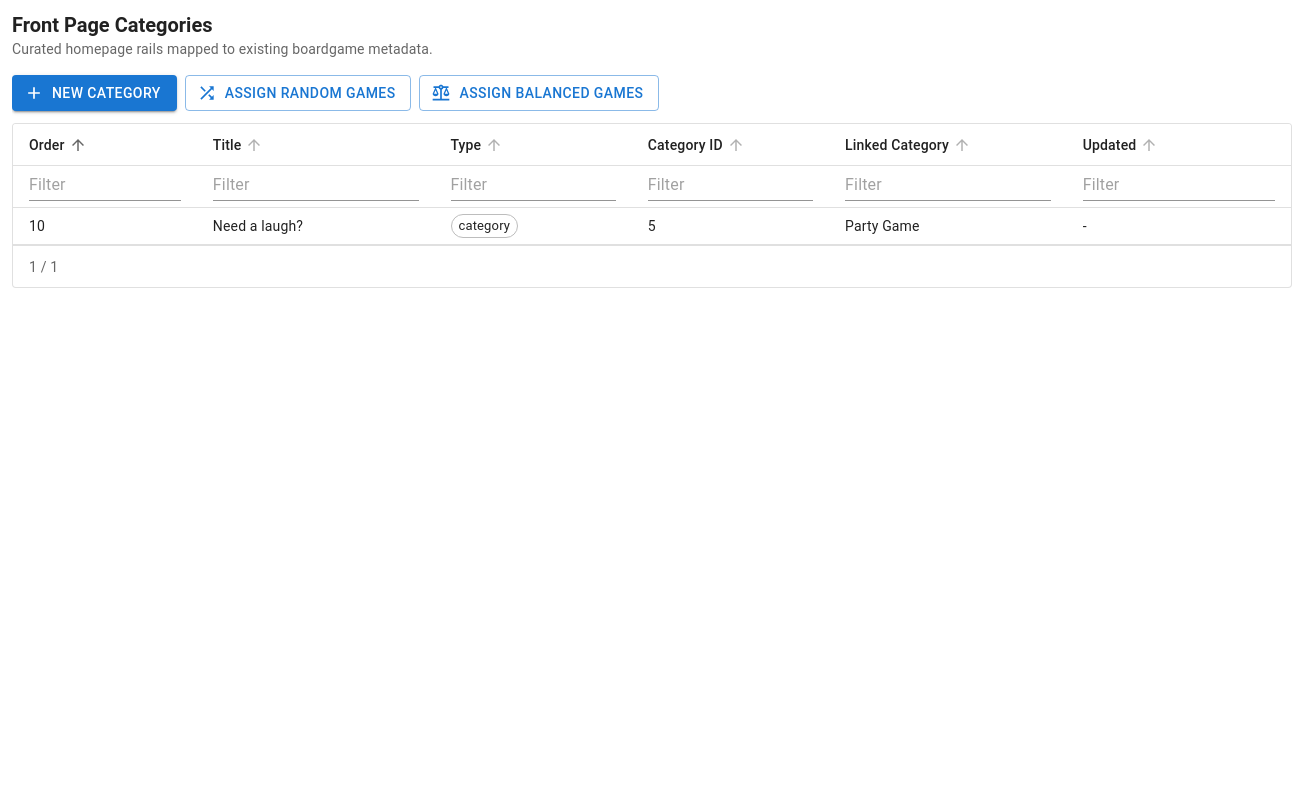
Test: FrontPageCategoriesPage › starts balanced item assignment from the table screen
What coordinates should you click on to do the following:
click the button "Assign Balanced Games"
I would click on:
 (539, 93)
Its box is [420,75,659,111].
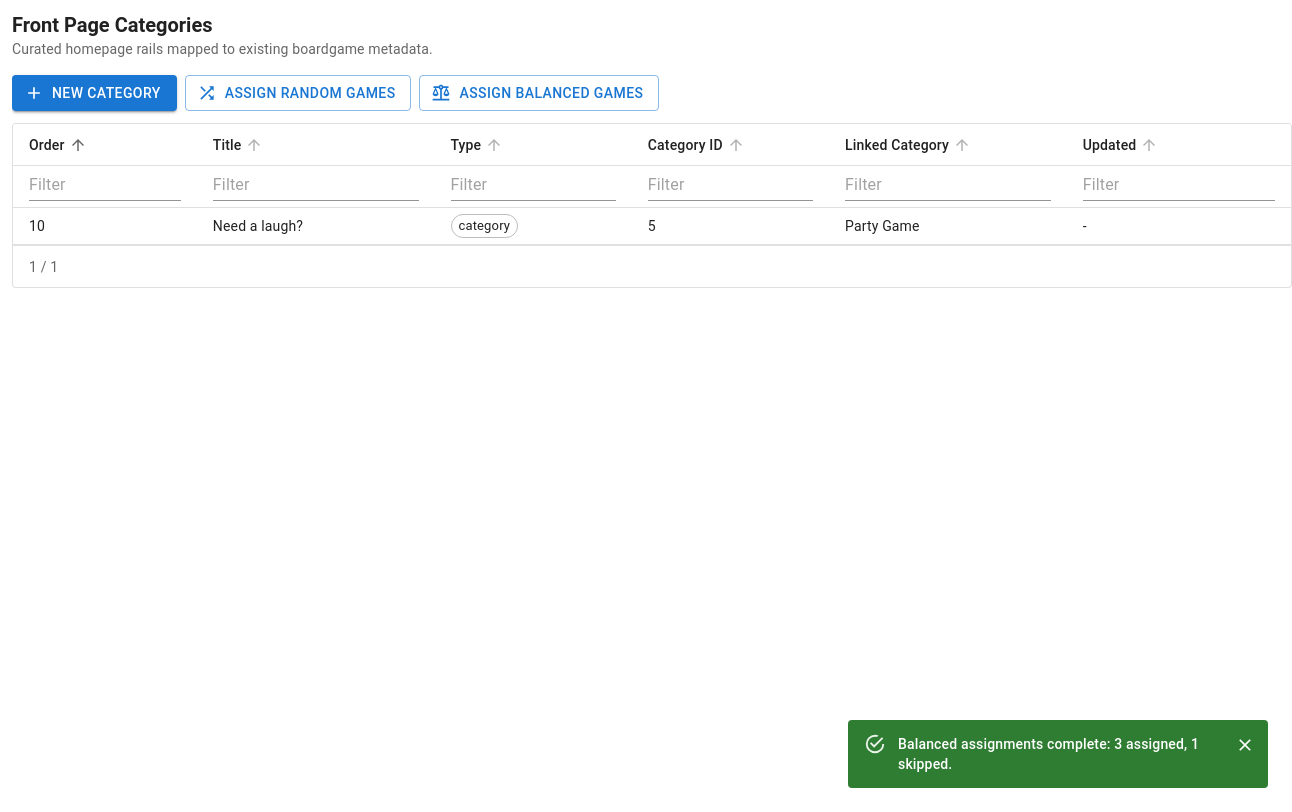
expect the text "Balanced assignments complete: 3 assigned, 1 skipped." is shown: met, box [898,726,1214,782]
